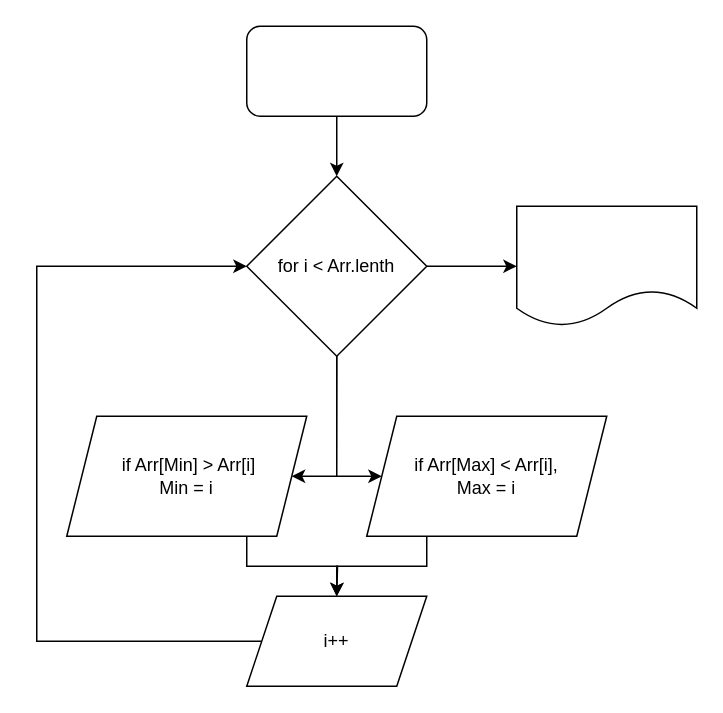
Some shapes in this 723 by 713 pixel diagram are drawn without their labels. Here are the shapes that lost their labels. From the top down, the centre of each, then its label:
At (336,70): "Arr [], i, Max, Min".
At (606,265): "Min, Max".
